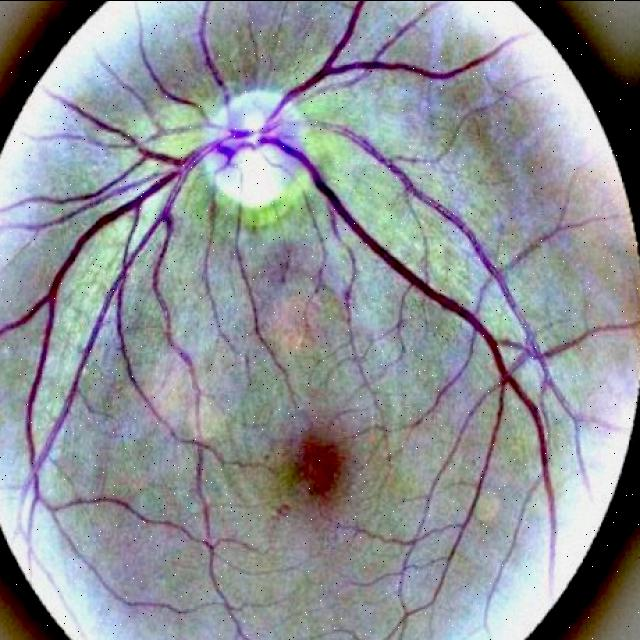Macula: (298, 441, 341, 495)
Optic Disk: (207, 89, 299, 205)
